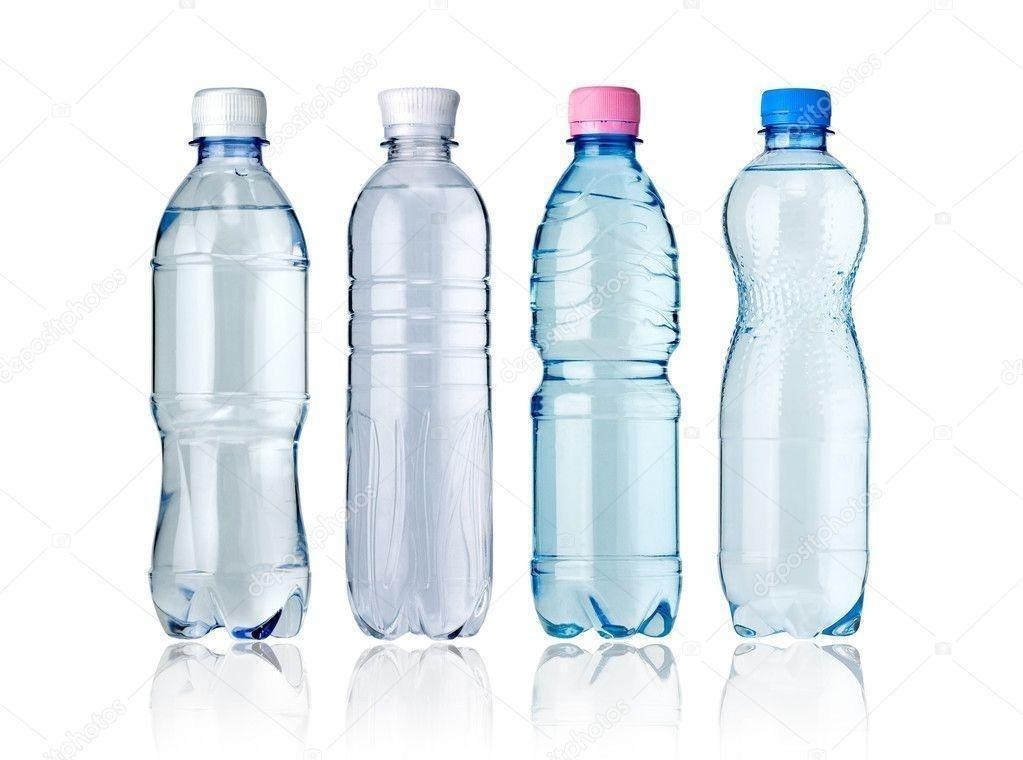bottle-plastic: (137, 80, 322, 652), (335, 78, 506, 653), (521, 78, 693, 649), (714, 77, 884, 649)
